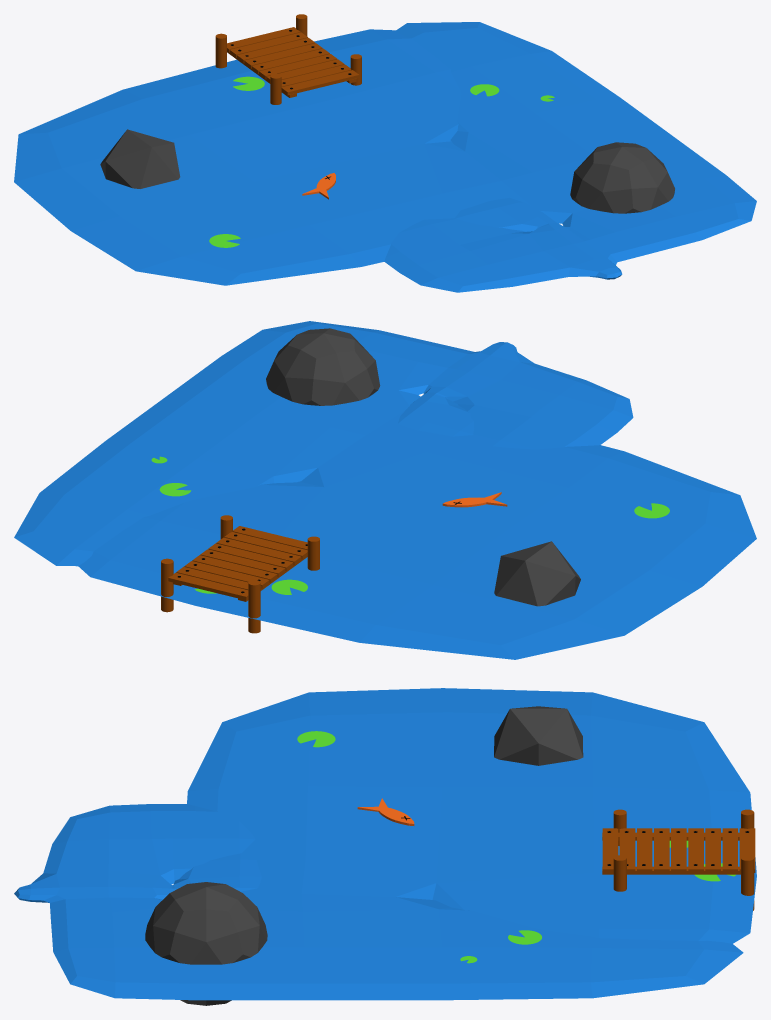
The model's file is lake.fbx.
3 renders of one model, top to bottom at view 1: azimuth 30°, elevation 25°; view 2: azimuth 150°, elevation 25°; view 3: azimuth 270°, elevation 25°, orthographic. The views are drawn at different scales.
Parts seen in each view (by area): view 1: Lake, Rock LArge, Planks, Rock; view 2: Lake, Rock LArge, Planks, Rock, Dock.001, Dock; view 3: Lake, Rock LArge, Planks, Rock, Dock.
Boxes of the visible parts, <box> form: Lake: <box>14,22,756,292</box>; Rock LArge: <box>570,142,674,213</box>; Planks: <box>227,27,359,95</box>; Rock: <box>100,129,180,188</box>; Lake: <box>14,321,756,659</box>; Rock LArge: <box>266,328,380,405</box>; Planks: <box>168,526,307,600</box>; Rock: <box>494,541,580,606</box>; Dock.001: <box>248,580,260,633</box>; Dock: <box>161,558,173,612</box>; Lake: <box>14,688,756,1000</box>; Rock LArge: <box>145,882,267,1005</box>; Planks: <box>602,828,755,872</box>; Rock: <box>494,706,583,765</box>; Dock: <box>741,855,754,910</box>.
Bounding box in the file's own units: 4317 × 733 × 4342.
